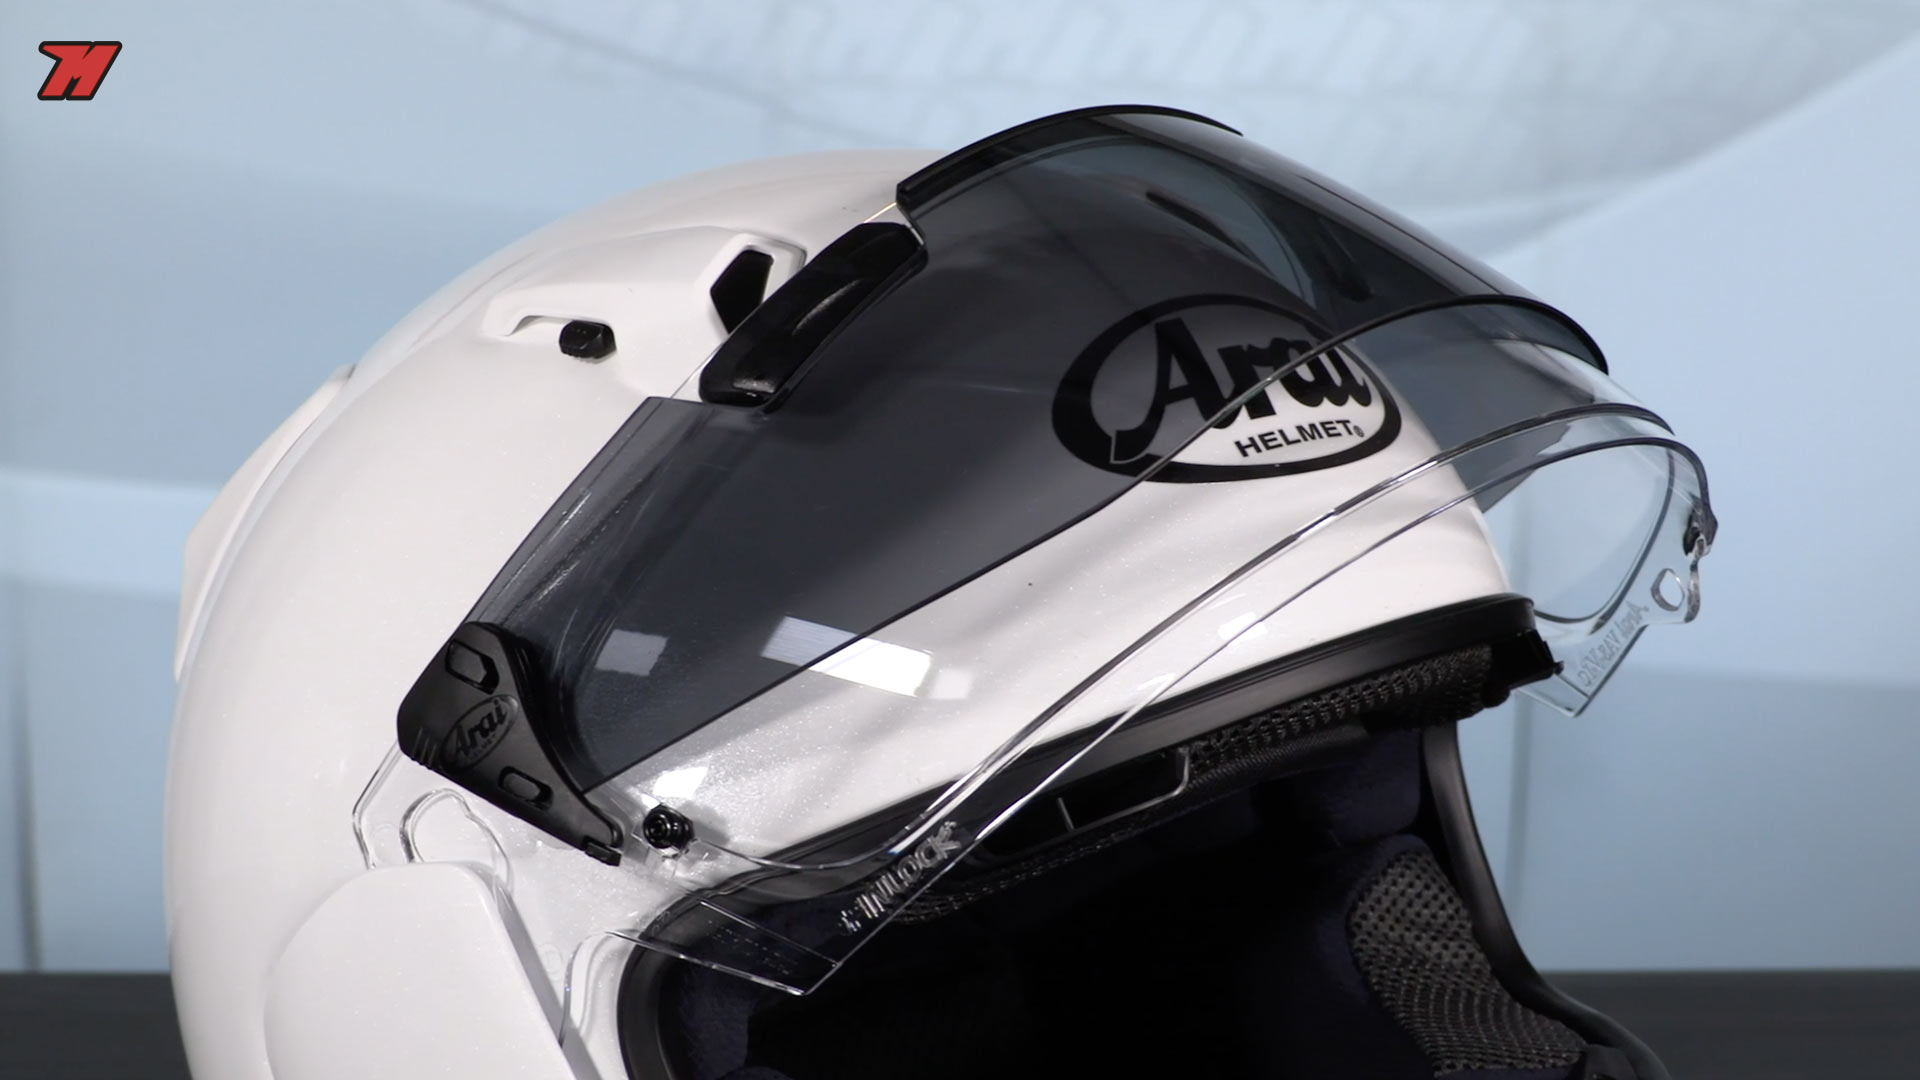with_helmet: (161, 65, 1734, 1080)
